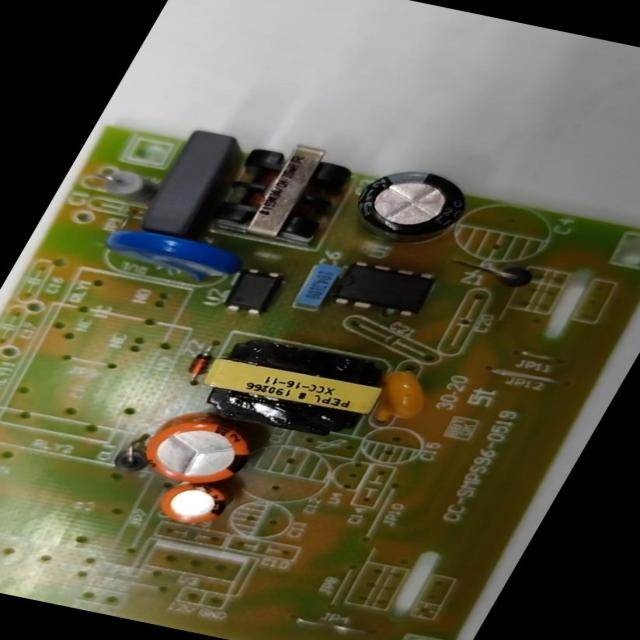Cap1: (132, 408, 264, 488)
Cap2: (152, 480, 232, 527)
Cap3: (337, 163, 479, 254)
MOSFET: (328, 257, 438, 318)
Mov: (95, 222, 246, 284)
Resistor: (87, 164, 165, 206)
Transformer: (183, 331, 394, 441), (206, 135, 362, 244)
